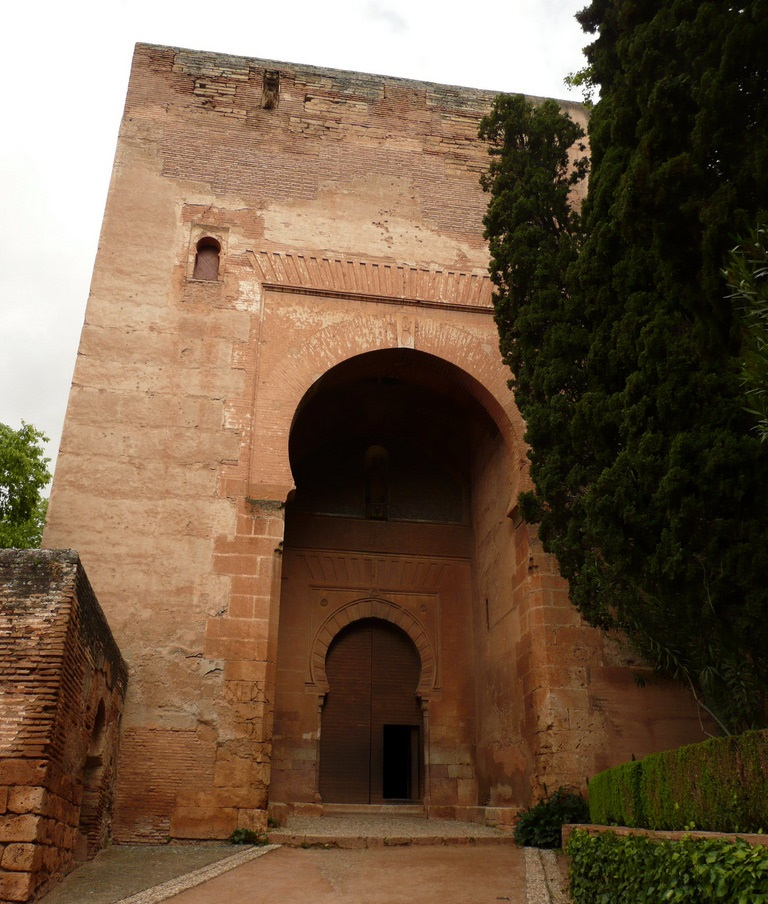arco-herradura: (270, 334, 534, 528)
dintel-adovelado: (243, 247, 490, 306), (302, 553, 448, 590)
